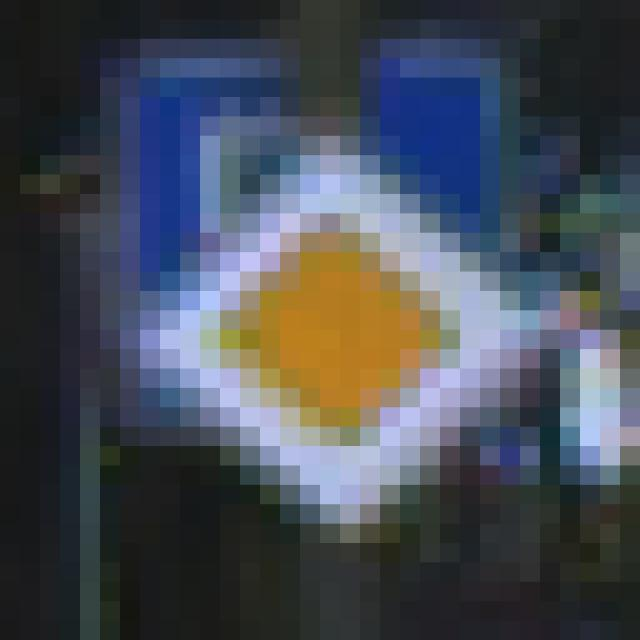Main Road: (101, 98, 541, 525)
